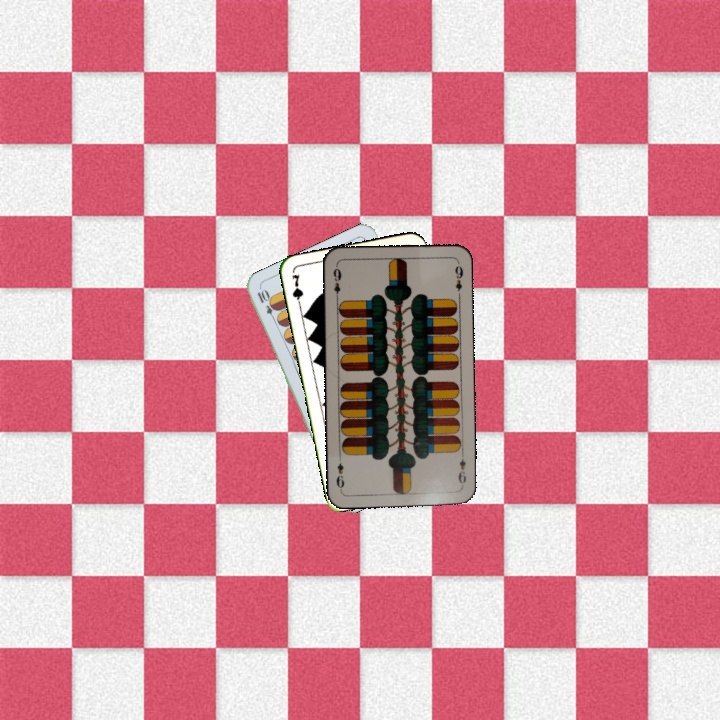E10: (253, 286, 280, 324)
E9: (329, 262, 344, 303), (454, 448, 468, 489)
G7: (288, 270, 306, 311)
